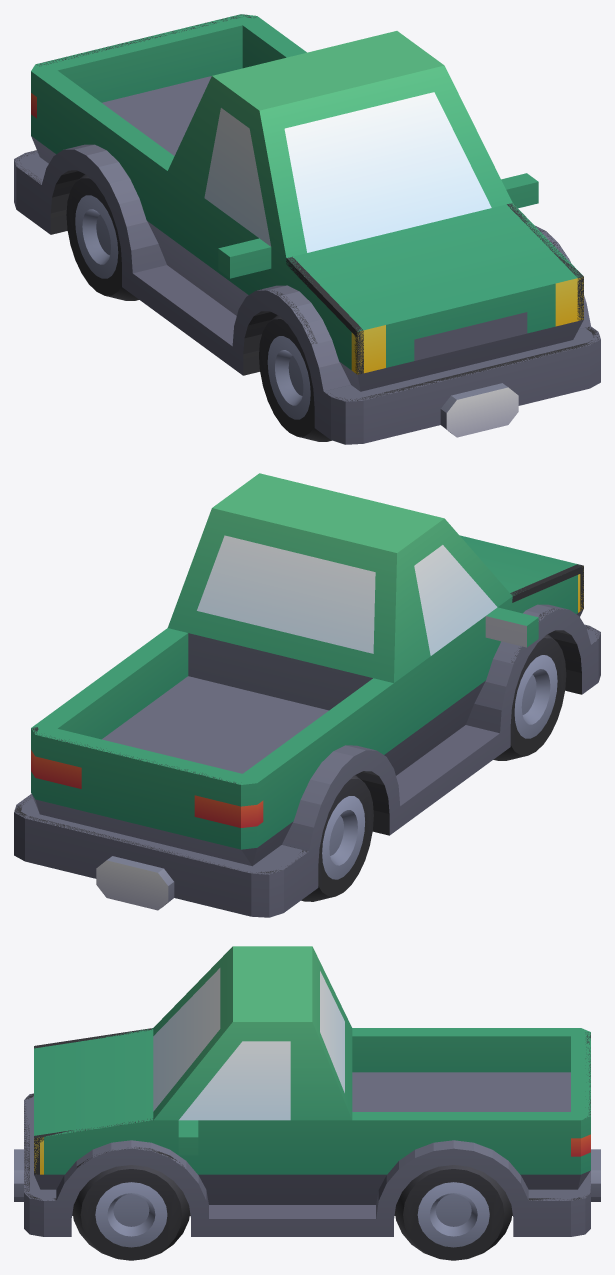
Rendered from ToyTruck.fbx.
The picture shows the model from 3 angles, top to bottom: view 1: azimuth 30°, elevation 25°; view 2: azimuth 150°, elevation 25°; view 3: azimuth 270°, elevation 25°; orthographic projection. The views are drawn at different scales.
Visible parts, largest first — view 1: ToyTruck_Body, ToyTruck_Part_Hood, ToyTruck_Part_FrontBumper, ToyTruck_Part_Grille, ToyTruck_Part_DoorRight, Wheel_FR, Wheel_RR, ToyTruck_Part_FenderRight, ToyTruck_Part_RearBumper; view 2: ToyTruck_Body, ToyTruck_Part_Trunk, ToyTruck_Part_RearBumper, ToyTruck_Part_DoorRight, Wheel_FR, Wheel_RR, ToyTruck_Part_FenderRight, ToyTruck_Part_Hood, ToyTruck_Part_FrontBumper; view 3: ToyTruck_Body, ToyTruck_Part_DoorLeft, ToyTruck_Part_Hood, Wheel_RL, Wheel_FL, ToyTruck_Part_FenderLeft, ToyTruck_Part_FrontBumper, ToyTruck_Part_RearBumper, ToyTruck_Part_Trunk.
Boxes of the visible parts, <box> form: ToyTruck_Body: <box>14,14,600,437</box>; ToyTruck_Part_Hood: <box>288,208,582,331</box>; ToyTruck_Part_FrontBumper: <box>305,302,600,444</box>; ToyTruck_Part_Grille: <box>357,276,583,373</box>; ToyTruck_Part_DoorRight: <box>145,159,257,297</box>; Wheel_FR: <box>259,315,331,441</box>; Wheel_RR: <box>66,174,138,300</box>; ToyTruck_Part_FenderRight: <box>244,247,357,375</box>; ToyTruck_Part_RearBumper: <box>14,160,50,234</box>; ToyTruck_Body: <box>14,473,600,910</box>; ToyTruck_Part_Trunk: <box>31,728,257,850</box>; ToyTruck_Part_RearBumper: <box>14,812,318,917</box>; ToyTruck_Part_DoorRight: <box>371,618,483,760</box>; Wheel_FR: <box>493,634,566,760</box>; Wheel_RR: <box>301,775,373,901</box>; ToyTruck_Part_FenderRight: <box>485,566,583,706</box>; ToyTruck_Part_Hood: <box>460,535,579,595</box>; ToyTruck_Part_FrontBumper: <box>548,610,600,694</box>; ToyTruck_Body: <box>14,946,600,1236</box>; ToyTruck_Part_DoorLeft: <box>202,1108,389,1183</box>; ToyTruck_Part_Hood: <box>34,1028,153,1135</box>; Wheel_RL: <box>395,1165,512,1260</box>; Wheel_FL: <box>72,1165,189,1260</box>; ToyTruck_Part_FenderLeft: <box>34,1120,198,1204</box>; ToyTruck_Part_FrontBumper: <box>24,1175,85,1236</box>; ToyTruck_Part_RearBumper: <box>513,1193,590,1236</box>; ToyTruck_Part_Trunk: <box>581,1116,590,1174</box>.
Bounding box in the file's own units: 1.5 × 1.3 × 2.95.
3 materials, 3 textured.
